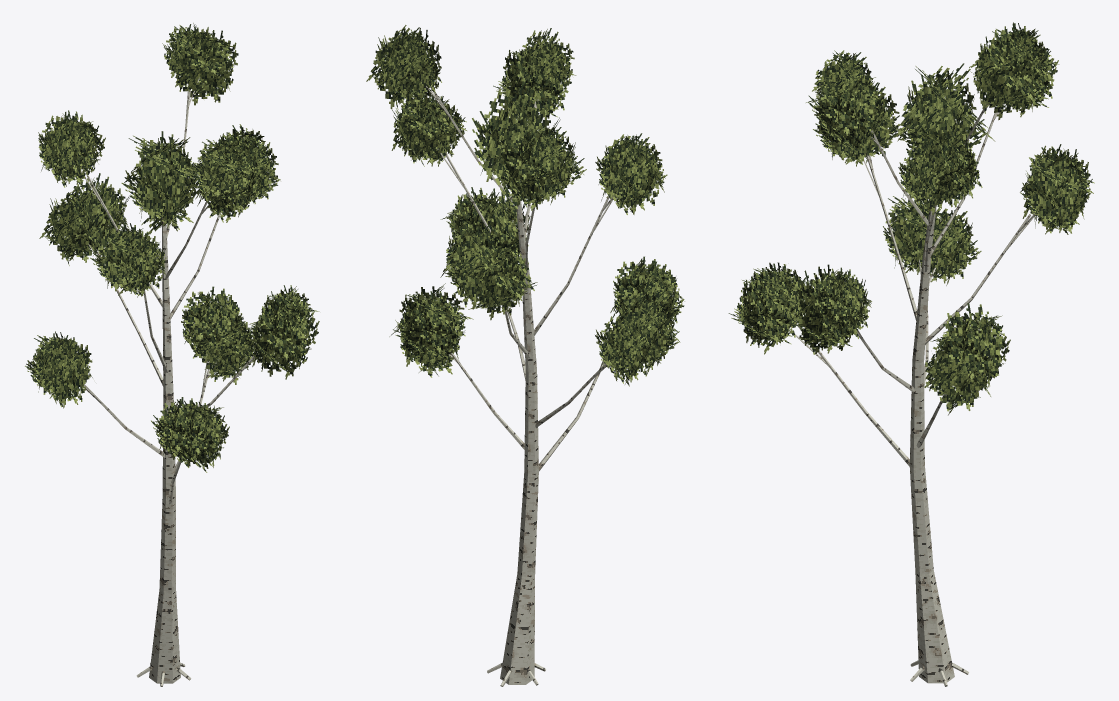
File: TREE_Birch_Green_B_LOD1.glb
The picture shows the model from 3 angles, left to right: view 1: azimuth 30°, elevation 25°; view 2: azimuth 150°, elevation 25°; view 3: azimuth 270°, elevation 25°; orthographic projection. The views are drawn at different scales.
Parts seen in each view (by area): view 1: TREE_Birch_Green_B_LOD1__Card, TREE_Birch_Green_B_LOD1__Bark, TREE_Birch_Green_B_LOD1__Foliage; view 2: TREE_Birch_Green_B_LOD1__Card, TREE_Birch_Green_B_LOD1__Bark, TREE_Birch_Green_B_LOD1__Foliage; view 3: TREE_Birch_Green_B_LOD1__Card, TREE_Birch_Green_B_LOD1__Bark, TREE_Birch_Green_B_LOD1__Foliage.
Part boxes in pixels (x1=…): TREE_Birch_Green_B_LOD1__Card: x1=25, y1=23, x2=319, y2=472; TREE_Birch_Green_B_LOD1__Bark: x1=81, y1=77, x2=258, y2=686; TREE_Birch_Green_B_LOD1__Foliage: x1=51, y1=46, x2=289, y2=446; TREE_Birch_Green_B_LOD1__Card: x1=366, y1=25, x2=684, y2=386; TREE_Birch_Green_B_LOD1__Bark: x1=421, y1=81, x2=614, y2=686; TREE_Birch_Green_B_LOD1__Foliage: x1=399, y1=51, x2=661, y2=360; TREE_Birch_Green_B_LOD1__Card: x1=728, y1=22, x2=1094, y2=415; TREE_Birch_Green_B_LOD1__Bark: x1=789, y1=104, x2=1036, y2=686; TREE_Birch_Green_B_LOD1__Foliage: x1=756, y1=52, x2=1066, y2=388.
Bounding box in the file's own units: 5.86 × 13.22 × 6.64.
Materials: 3 (3 with a texture image).
